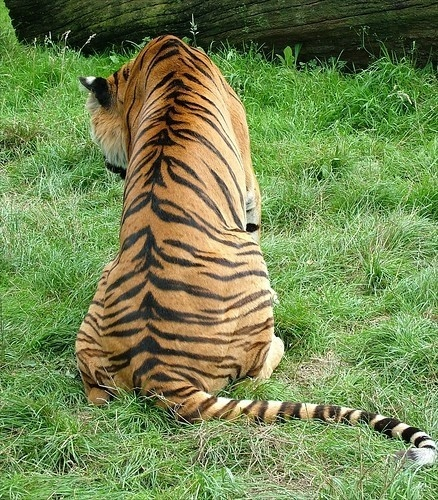tigre: (67, 30, 438, 465)
